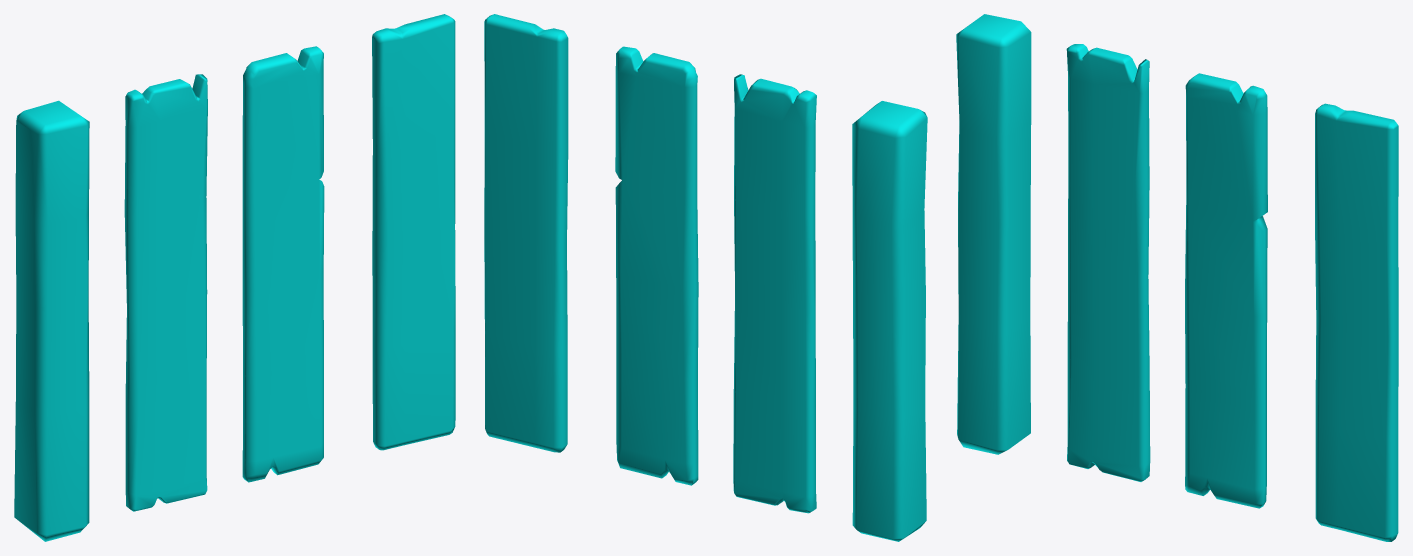
Rendered from Wood_L.fbx.
The picture shows the model from 3 angles, left to right: view 1: azimuth 30°, elevation 25°; view 2: azimuth 150°, elevation 25°; view 3: azimuth 330°, elevation 25°; orthographic projection.
Visible parts, largest first — view 1: Plank3_L, Plank2_L, Plank1_L, Post_L; view 2: Plank3_L, Plank1_L, Plank2_L, Post_L; view 3: Plank3_L, Plank2_L, Plank1_L, Post_L.
Part boxes in pixels (x1,y1,x2,y2): Plank3_L: (372, 14, 455, 450); Plank2_L: (124, 74, 207, 511); Plank1_L: (242, 46, 324, 482); Post_L: (14, 100, 89, 541); Plank3_L: (484, 14, 568, 452); Plank1_L: (615, 46, 698, 485); Plank2_L: (733, 74, 816, 513); Post_L: (852, 101, 927, 541); Plank3_L: (1315, 103, 1398, 541); Plank2_L: (1066, 44, 1150, 481); Plank1_L: (1185, 73, 1267, 508); Post_L: (956, 14, 1031, 454).
Size of the model in its own units: 0.7819 by 0.7297 by 0.0954.
